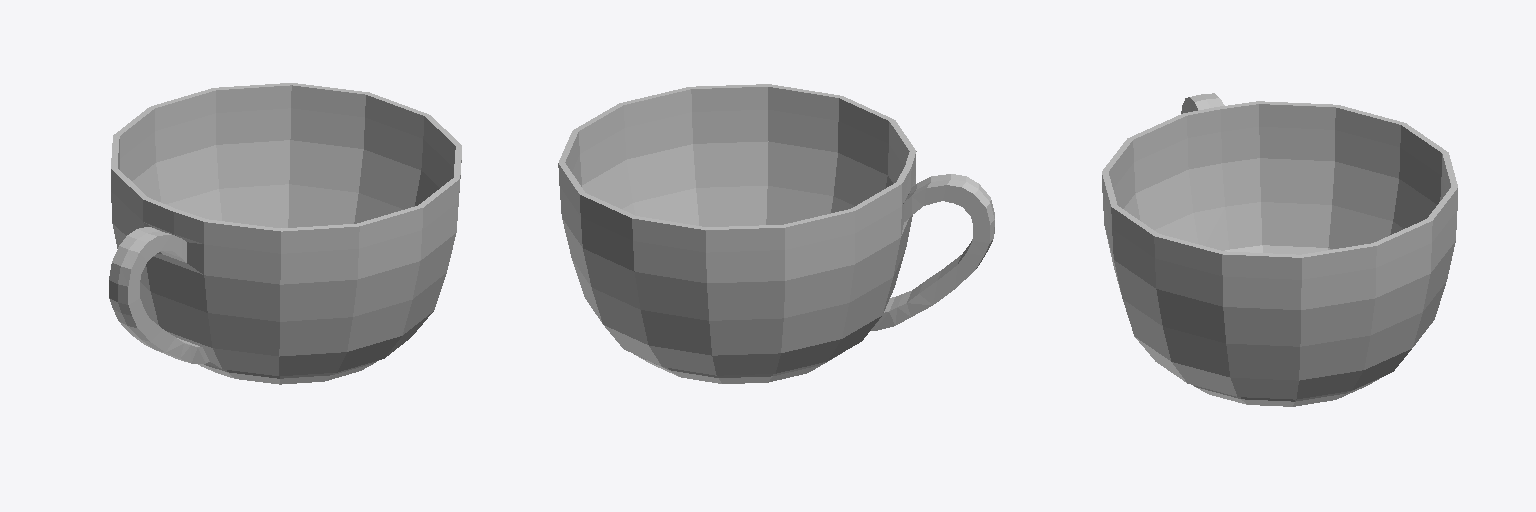
The model's file is cup.obj.
3 views of the same model, side by side, from view 1: azimuth 30°, elevation 25°; view 2: azimuth 150°, elevation 25°; view 3: azimuth 270°, elevation 25° (orthographic).
Visible parts, largest first — view 1: cup; view 2: cup; view 3: cup.
Part boxes in pixels (left/top/right/bottom): cup: left=109, top=83, right=461, bottom=384; cup: left=558, top=84, right=994, bottom=383; cup: left=1102, top=93, right=1457, bottom=406.
Bounding box in the file's own units: 6.35 × 3.11 × 5.31.